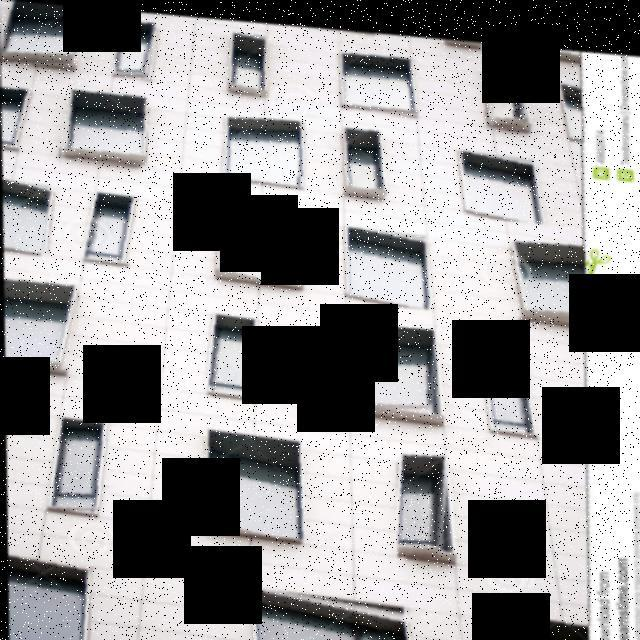Window: (198, 429, 303, 534), (235, 579, 410, 640), (344, 316, 438, 410), (339, 216, 434, 302), (449, 138, 553, 215), (213, 195, 302, 280), (6, 550, 90, 640), (55, 85, 148, 166), (3, 274, 79, 372), (506, 229, 589, 314), (37, 418, 109, 515), (395, 440, 451, 555), (0, 0, 88, 72), (222, 110, 306, 180), (340, 44, 418, 112), (81, 188, 144, 262), (204, 306, 258, 386), (2, 177, 56, 254), (334, 117, 388, 190), (481, 337, 524, 418), (482, 54, 531, 124), (512, 599, 594, 640), (222, 26, 269, 91), (115, 17, 156, 83), (552, 68, 590, 132), (1, 81, 30, 150), (5, 405, 15, 505), (554, 39, 584, 52), (444, 31, 486, 40)
